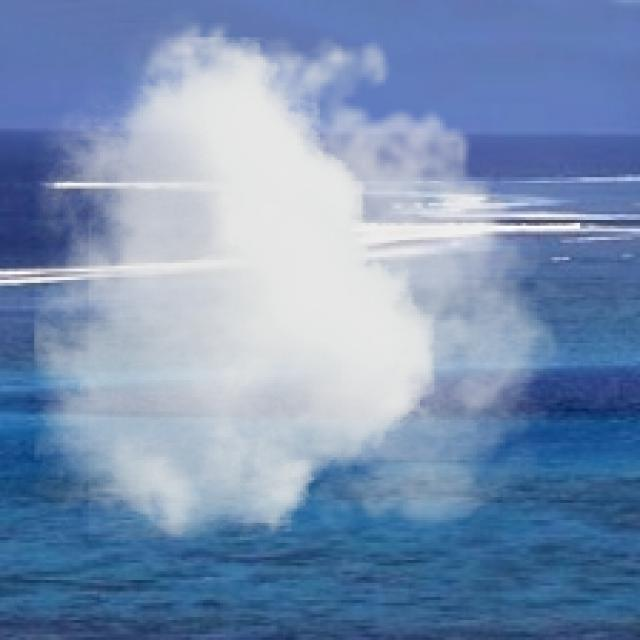Smoke: (34, 6, 577, 540)
